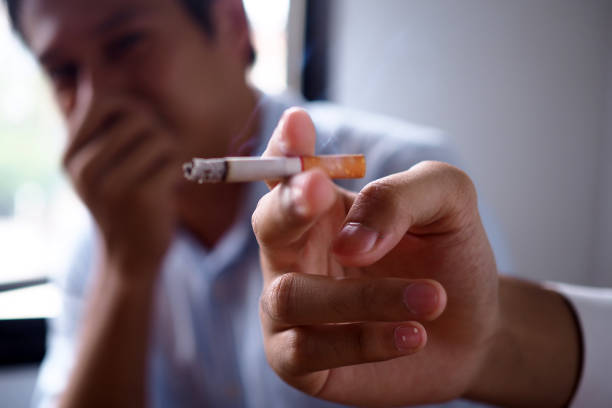cigarette: (182, 150, 365, 185)
